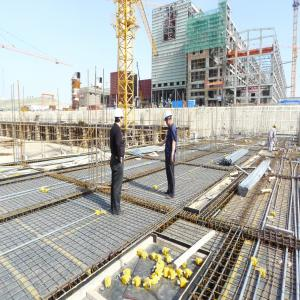white: (114, 109, 125, 129), (165, 111, 173, 127)
yellow: (274, 124, 278, 130), (225, 123, 226, 126), (242, 130, 243, 133), (244, 130, 245, 132)
